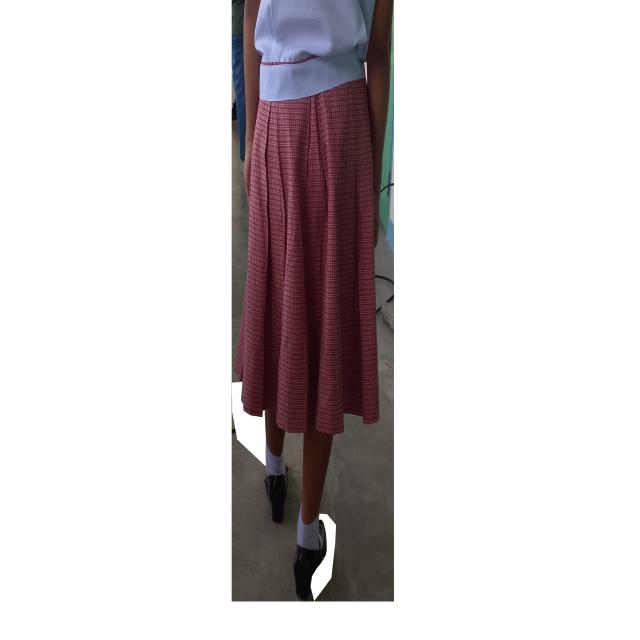shoes: (293, 519, 327, 600), (264, 465, 288, 522)
skirt: (235, 78, 379, 434)
